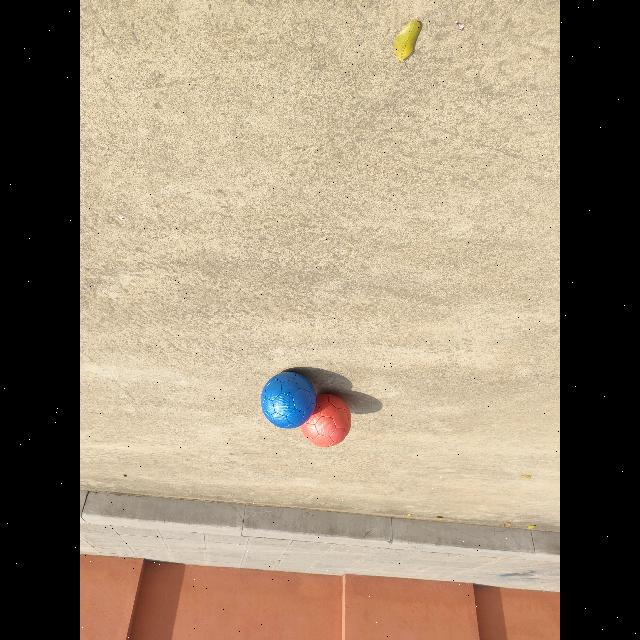B: (260, 372, 317, 429)
R: (300, 394, 351, 447)
